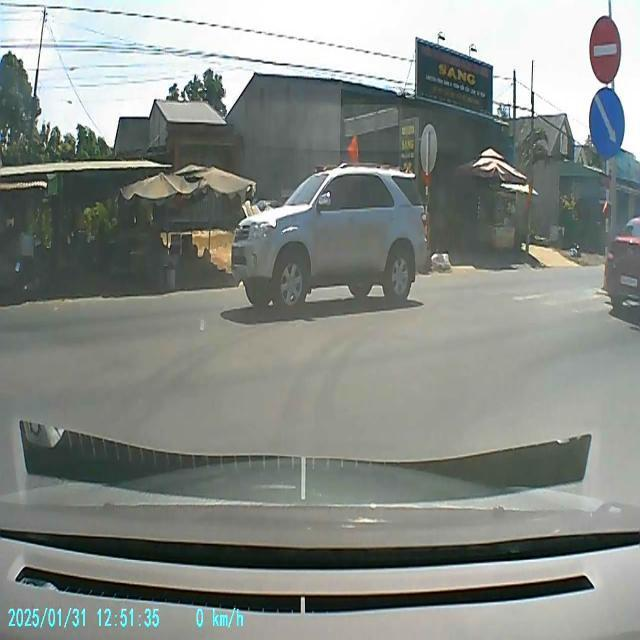102-cam-di-nguoc-chieu: (588, 15, 623, 84)
302a-huong-phai-di-vong-chuong-ngai-vat-1: (588, 87, 627, 159)
